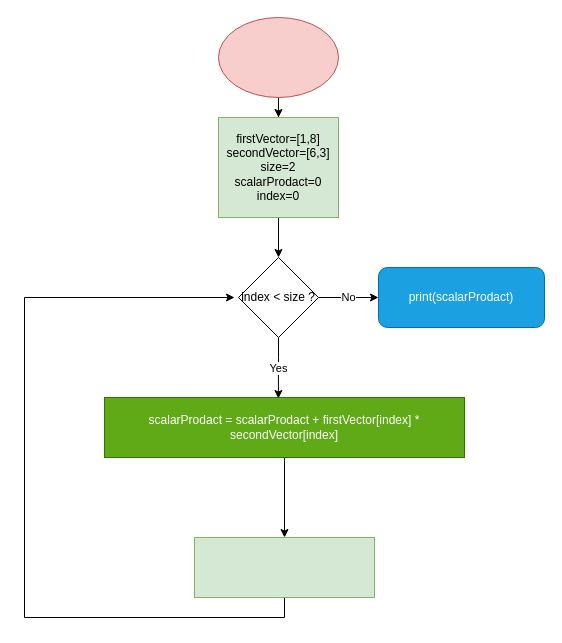
The diagram is 562 pixels wide and 643 high, and some of its shapes have lost their labels. Each missing label, with the centre of its shape:
"index = index + 1" goes at [284,567].
"Start" goes at [278,57].
